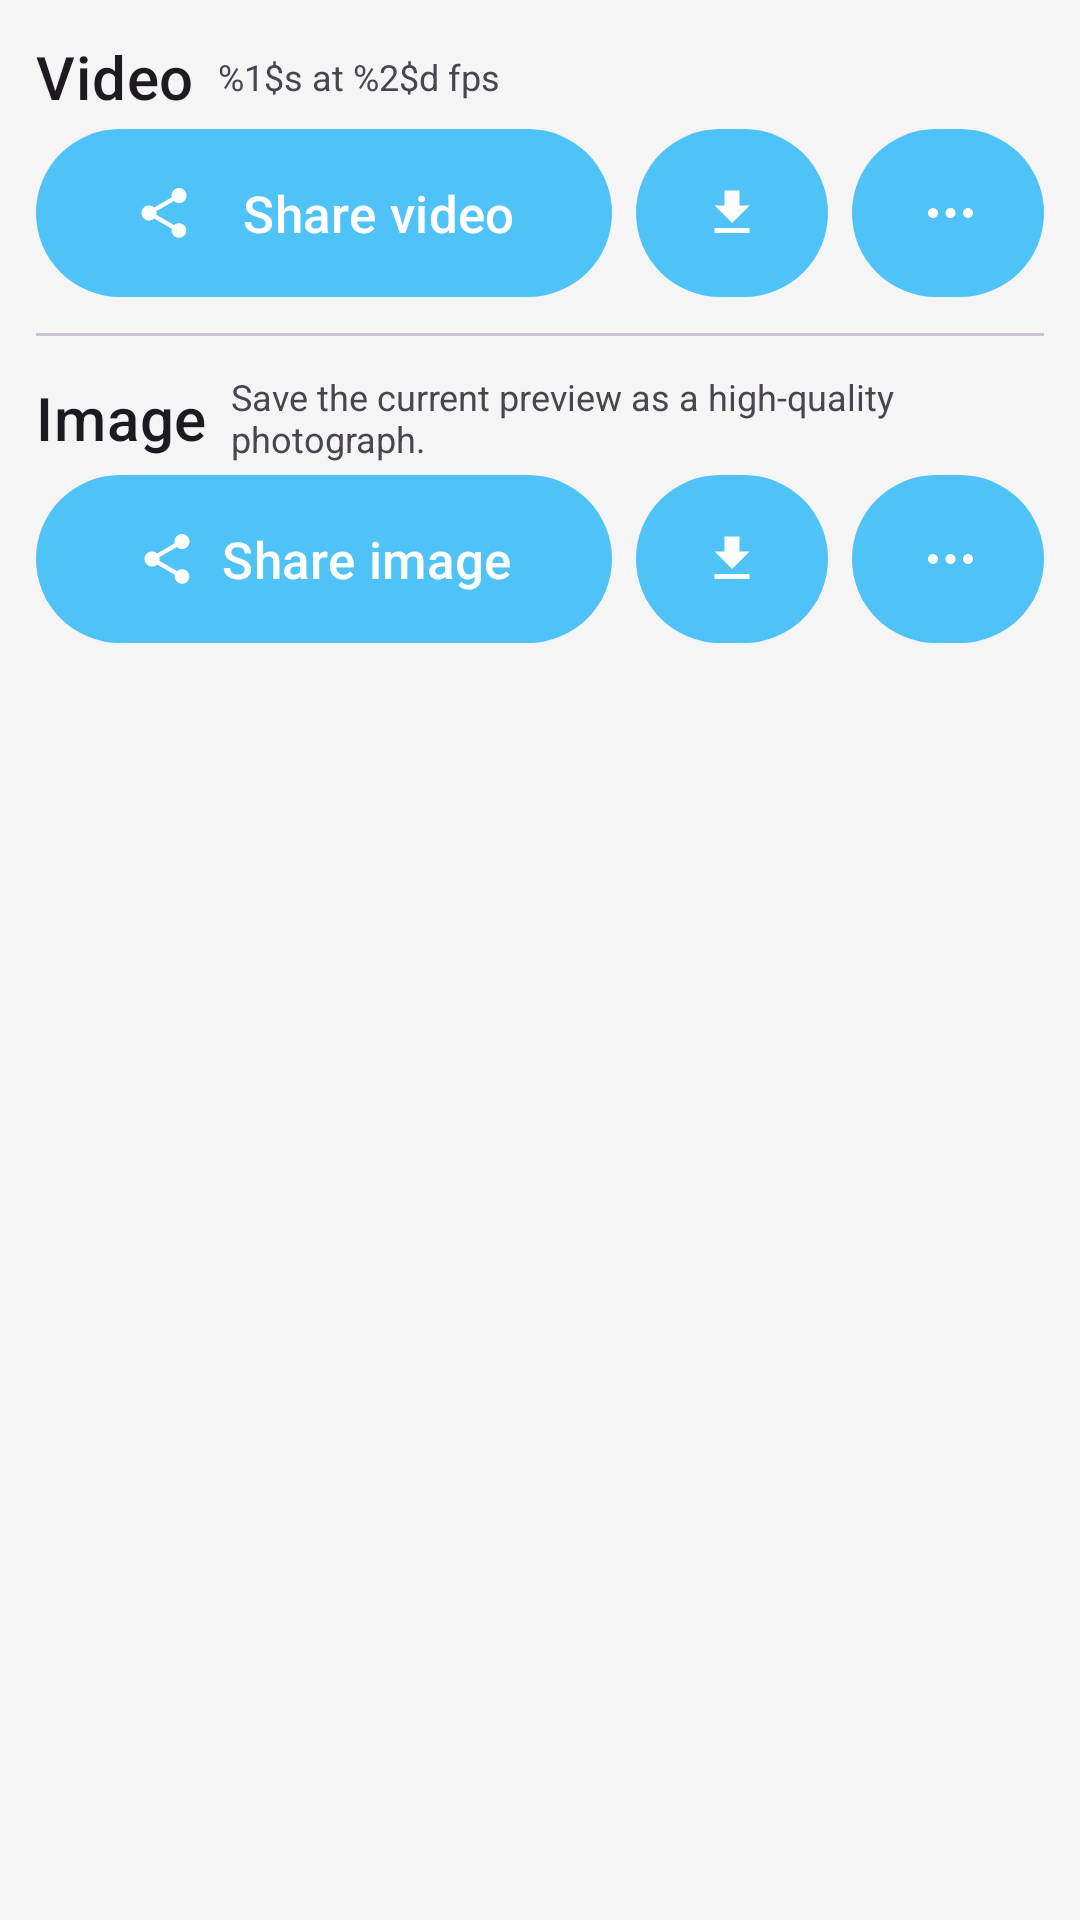

Where icons sit on this 1080px x 1920px app screen, as (x1, y1, x2, y2):
Image settings: (852, 475, 1044, 643)
Save to Gallery: (636, 129, 828, 297), (636, 475, 828, 643)
Video settings: (852, 129, 1044, 297)
